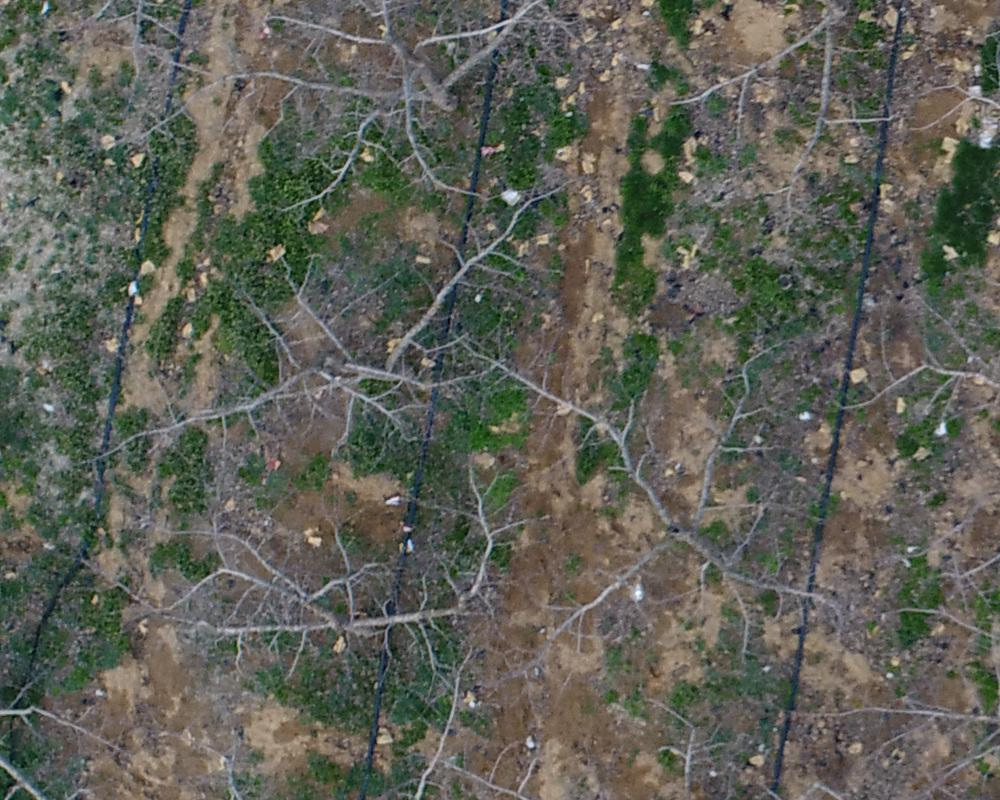apple: (64, 220, 534, 497), (519, 391, 857, 684), (158, 10, 597, 221), (122, 485, 529, 711), (675, 10, 988, 190)
